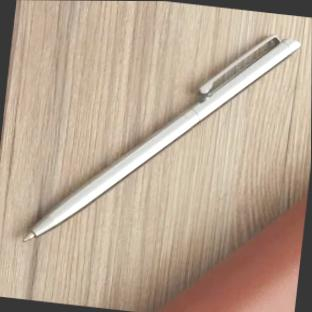pen-pencil: (23, 36, 299, 240)
